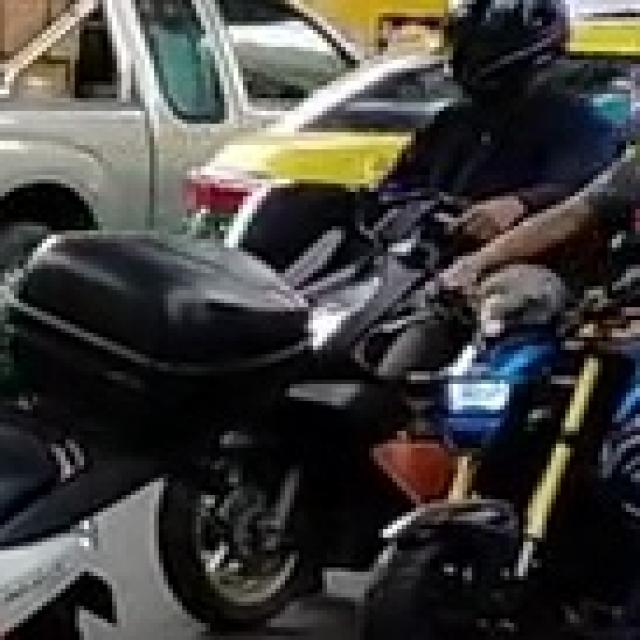door: (0, 0, 154, 235)
helmet: (439, 0, 570, 94)
tyre: (154, 461, 322, 627)
